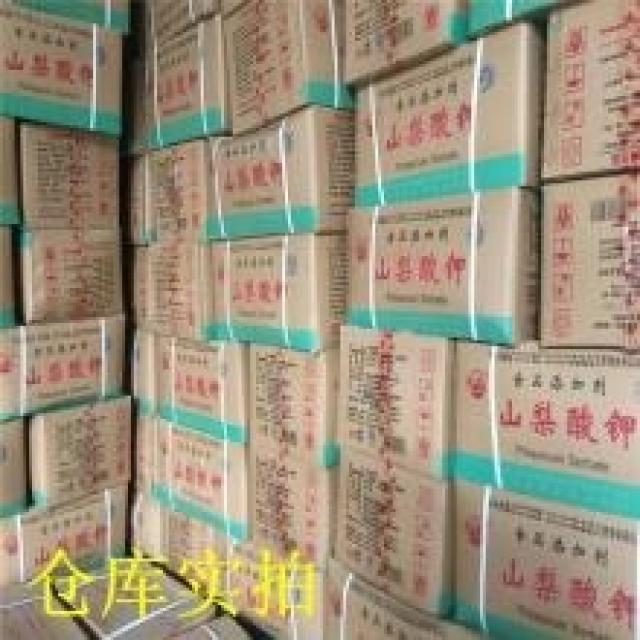box: (355, 20, 544, 204), (451, 343, 640, 518), (343, 186, 541, 343), (454, 483, 640, 640), (207, 105, 355, 239), (337, 451, 454, 620), (541, 0, 640, 183), (538, 175, 640, 352), (221, 0, 352, 134), (340, 326, 451, 480), (0, 0, 122, 140), (209, 233, 346, 355), (131, 489, 247, 614), (128, 17, 230, 157), (52, 556, 221, 640), (137, 416, 250, 541), (0, 486, 128, 591), (131, 329, 247, 442), (29, 393, 134, 512), (247, 343, 340, 468), (346, 0, 468, 93), (20, 311, 125, 416), (20, 119, 122, 227), (247, 451, 337, 573), (23, 227, 122, 323), (323, 564, 445, 640), (128, 140, 212, 244), (131, 236, 209, 335), (0, 579, 84, 640), (137, 0, 218, 55), (3, 0, 128, 29), (0, 422, 29, 518), (0, 113, 23, 227), (0, 224, 20, 326), (166, 617, 253, 640), (0, 326, 20, 422)
